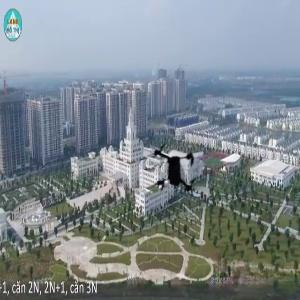drone: (147, 135, 218, 206)
